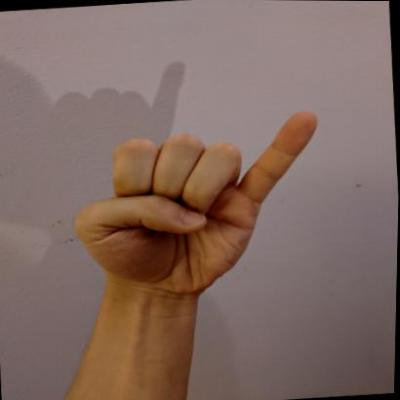hand: (62, 104, 336, 308)
